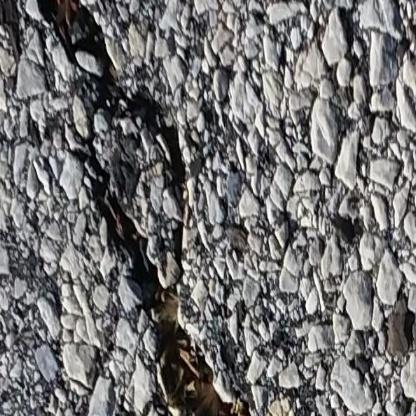Cracks: (41, 0, 278, 416)
